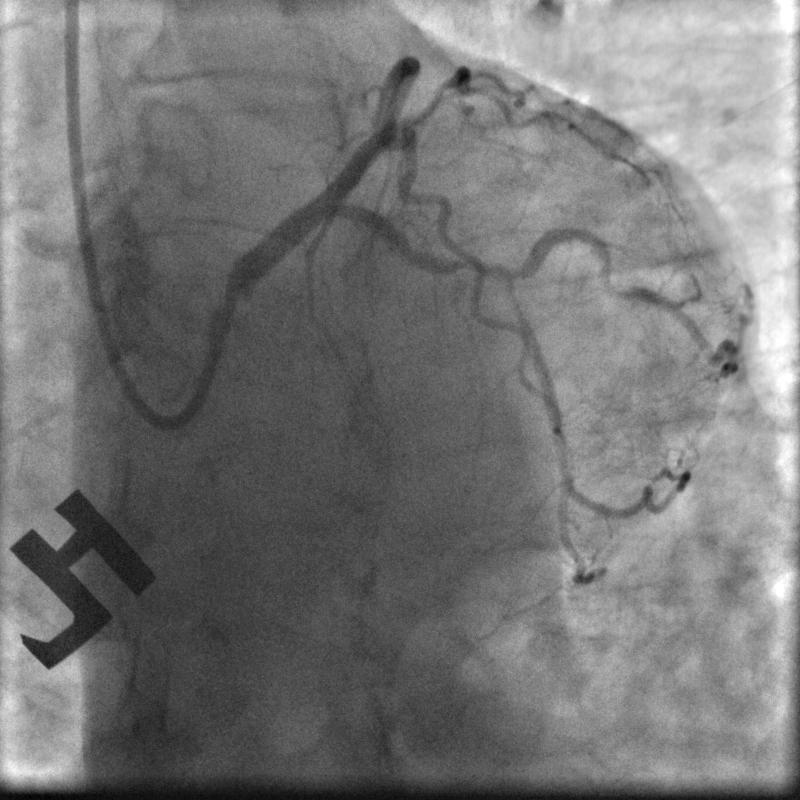Stenosis: (467, 245, 529, 295)
